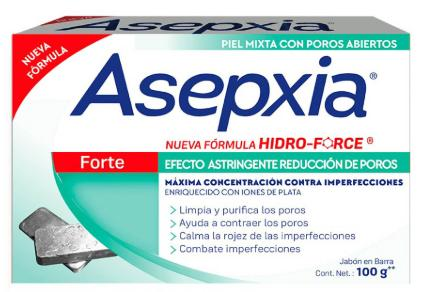brand: (71, 52, 370, 134)
extra_detail: (163, 154, 401, 172)
net_weight: (355, 266, 389, 280)
product_name: (63, 153, 140, 174)
